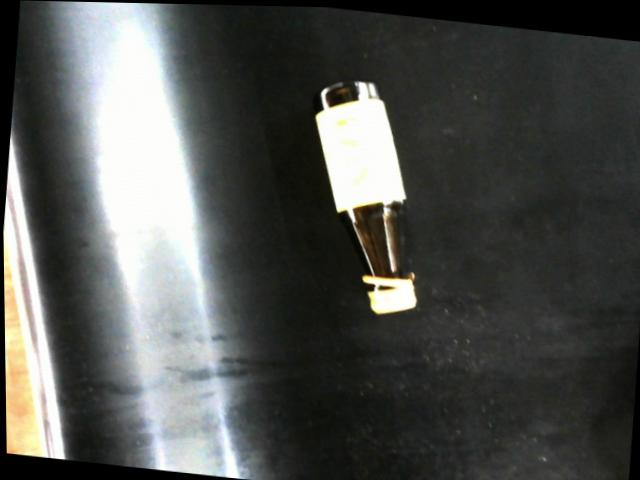glass: (307, 77, 420, 317)
